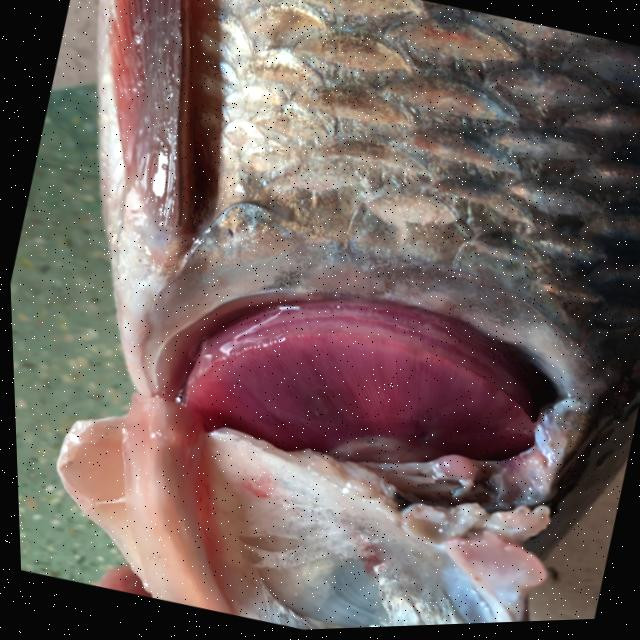Fresh: (66, 225, 623, 558)
